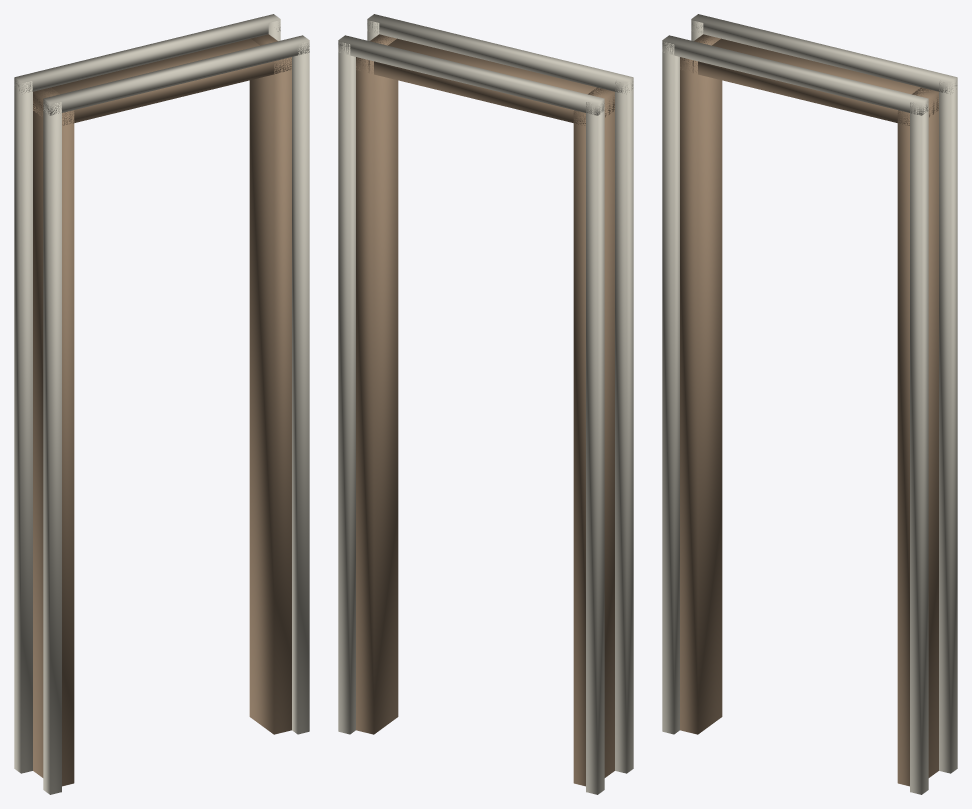
File: doorway_painted_trim_w76_h240_d16.glb
3 renders of one model, left to right at view 1: azimuth 30°, elevation 25°; view 2: azimuth 150°, elevation 25°; view 3: azimuth 330°, elevation 25°, orthographic.
Visible parts, largest first — view 1: world; view 2: world; view 3: world.
Boxes of the visible parts, x1=… form: world: x1=14, y1=14, x2=309, y2=794; world: x1=338, y1=14, x2=633, y2=794; world: x1=662, y1=14, x2=957, y2=794.
Bounding box in the file's own units: 0.9868 × 2.51 × 0.2365.
